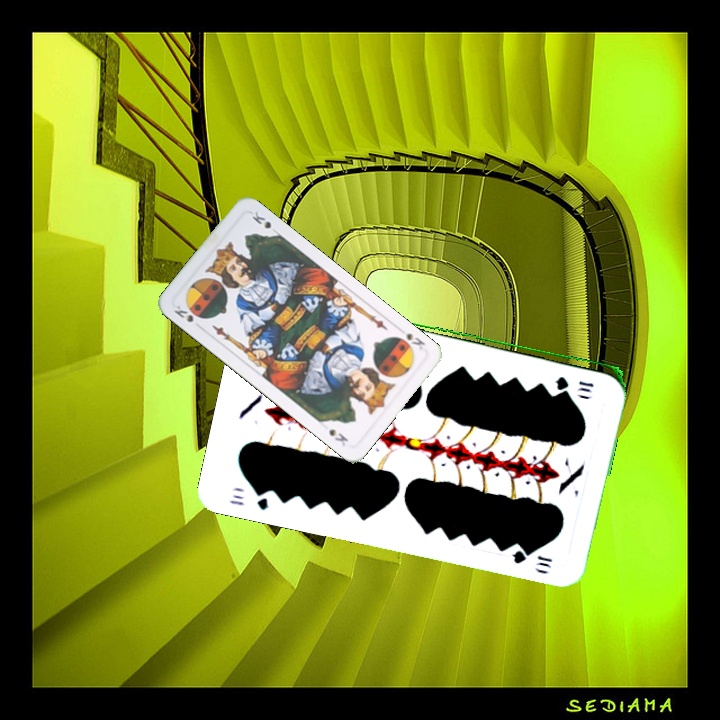G10: (225, 485, 272, 513), (552, 372, 596, 395)
SK: (170, 301, 204, 325), (402, 329, 428, 352)
